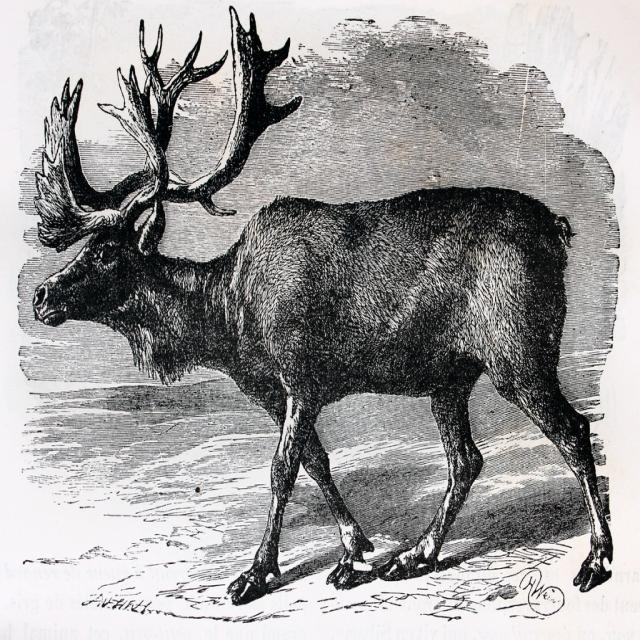Deer: (33, 5, 613, 605)
